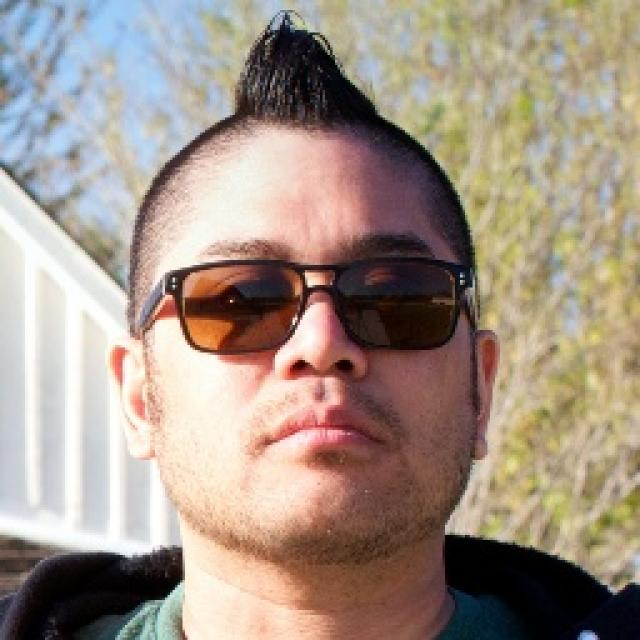earlobe: (123, 428, 158, 462), (471, 430, 490, 461)
eye: (214, 276, 287, 311), (356, 278, 426, 309)
nose: (276, 366, 370, 403)
wholeear: (104, 340, 156, 462), (469, 328, 503, 460)
